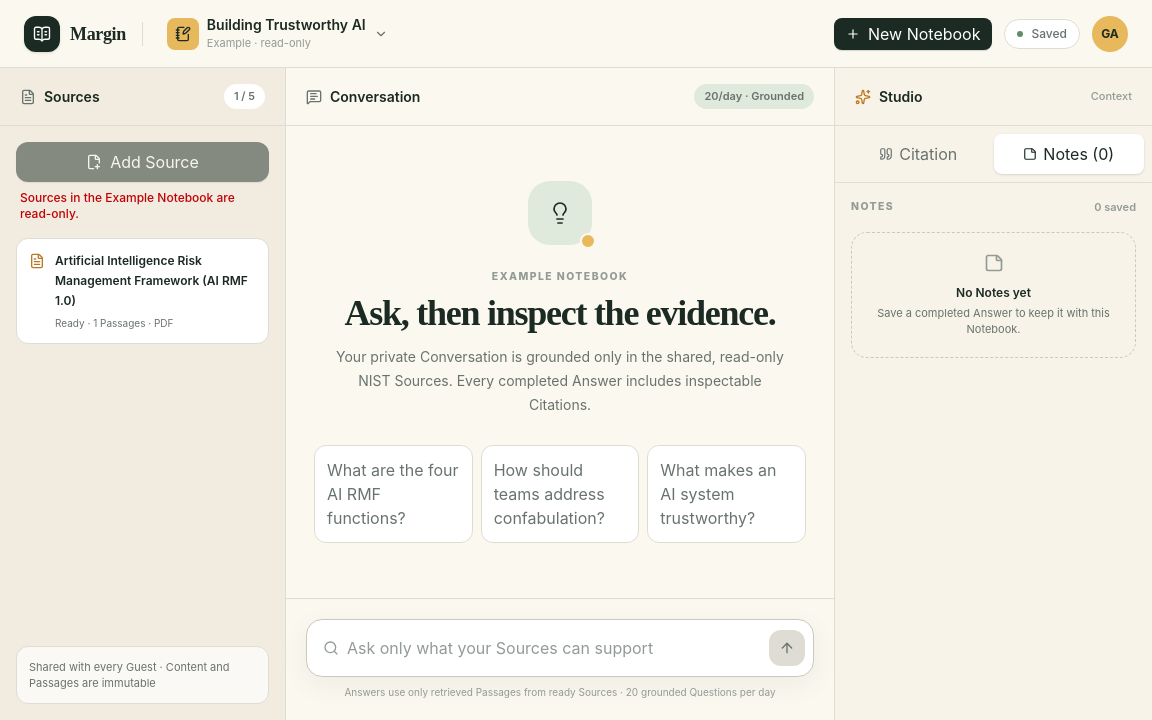
it: Notebook workspace › opens the Example Notebook first and previews ordered Source content
Expected: the heading "Ask, then inspect the evidence." is shown, [314, 293, 806, 333]
What coordinates should you click on to do the following:
click the button with aria-label "Preview Artificial Intelligence Risk Management Framework (A"
I would click on:
 (142, 291)
Its box is [29, 251, 256, 331].
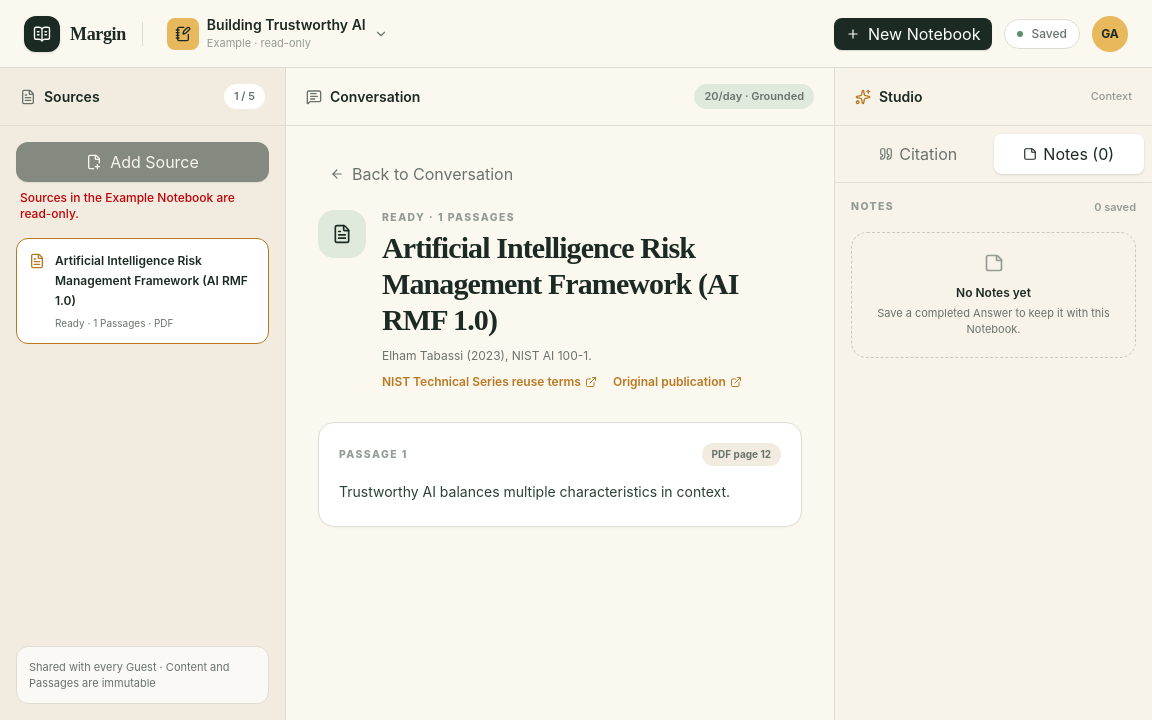
Expected: the element named "Source preview" shows "Trustworthy AI balances multiple characteristics in context.", [339, 483, 730, 500]
Expected: the text "PDF page 12" is shown, [702, 443, 781, 466]
